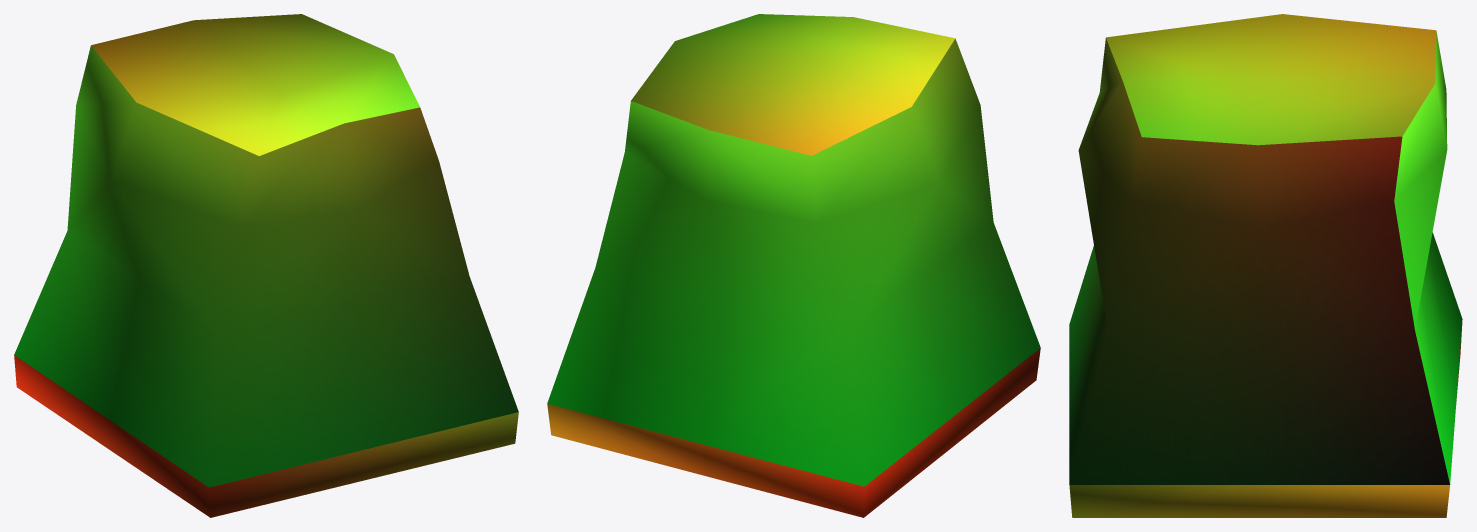
The model's file is funny-cube.glb.
3 views of the same model, side by side, from view 1: azimuth 30°, elevation 25°; view 2: azimuth 150°, elevation 25°; view 3: azimuth 270°, elevation 25° (orthographic). The views are drawn at different scales.
Parts seen in each view (by area): view 1: FunnyCube; view 2: FunnyCube; view 3: FunnyCube.
Part boxes in pixels (left/top/right/bottom): FunnyCube: left=14, top=14, right=518, bottom=517; FunnyCube: left=547, top=14, right=1040, bottom=517; FunnyCube: left=1069, top=14, right=1462, bottom=517.
Size of the model in its own units: 0.9944 by 1.01 by 0.9944.
1 material, 1 textured.
